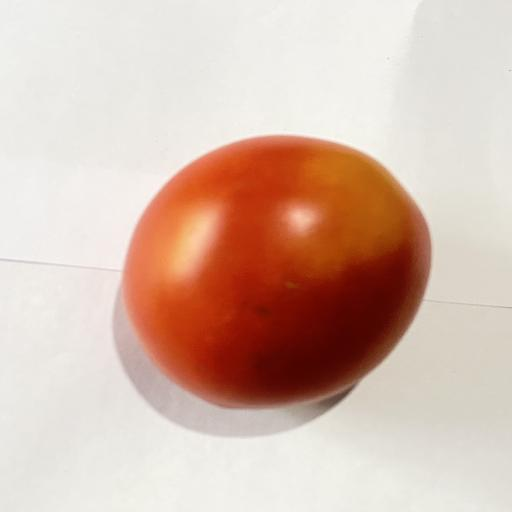ripe: (122, 136, 431, 408)
